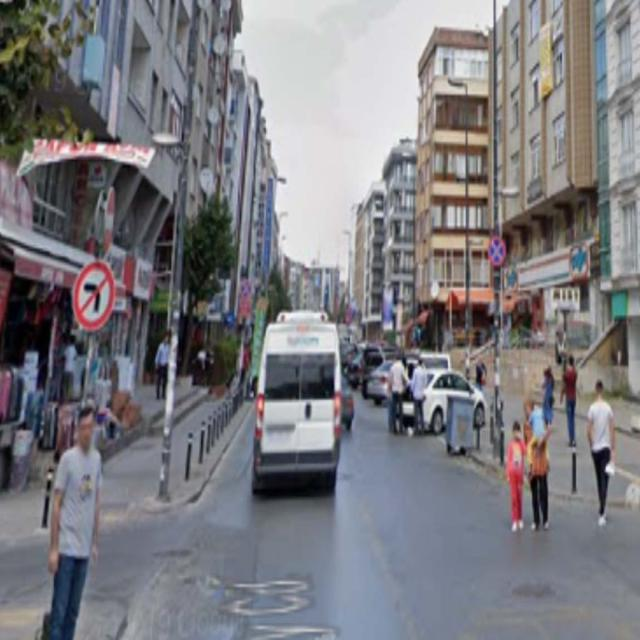soladonulmez: (74, 260, 113, 330)
